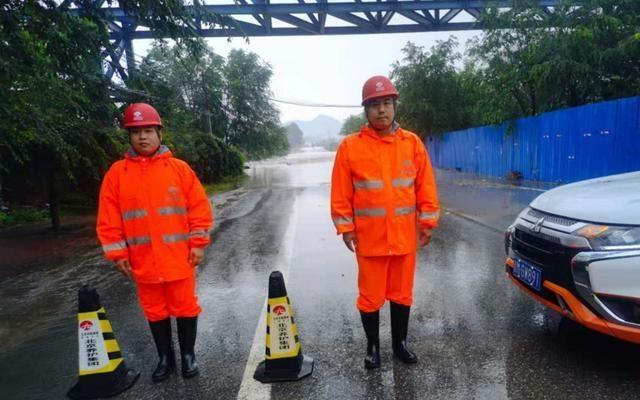cone_barrel: (68, 284, 131, 392), (251, 271, 308, 377)
